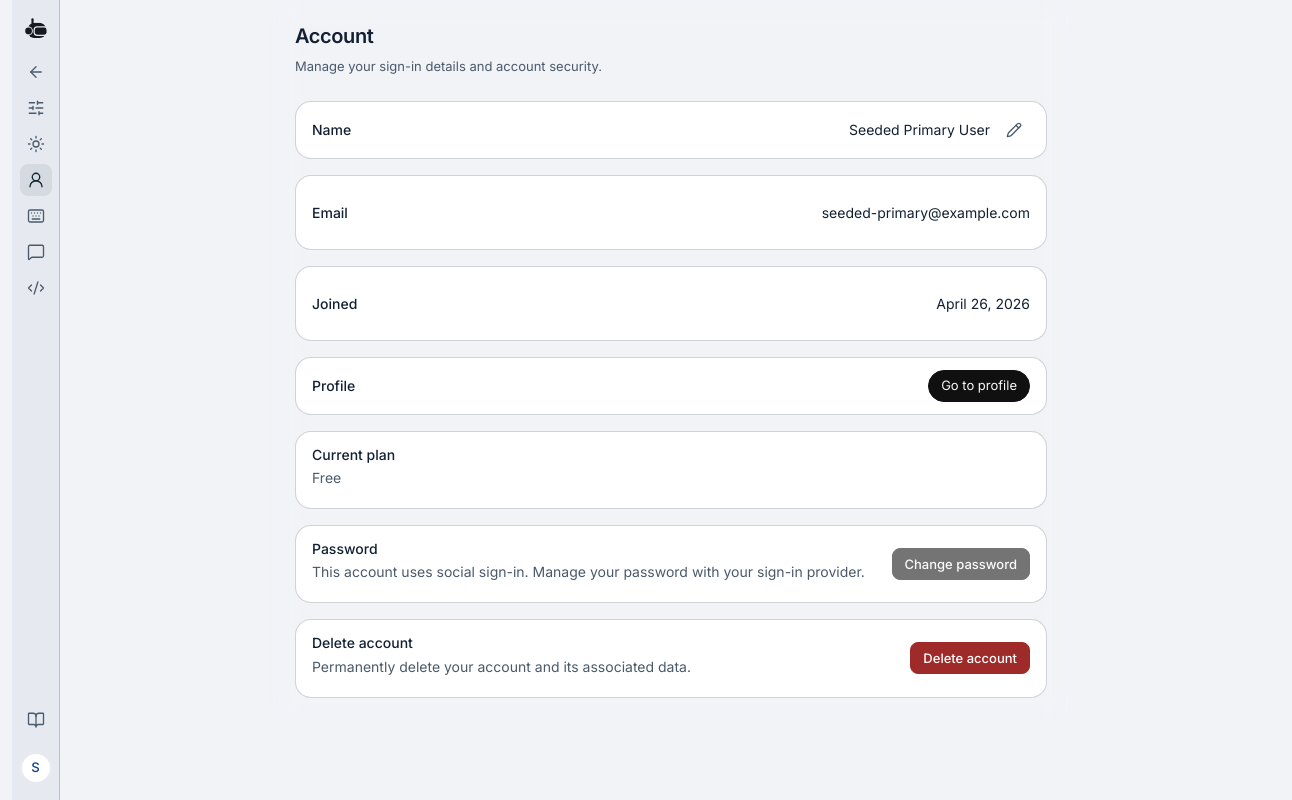
Test case: SettingsPage developers scenario › paginates API key cards after six items
The width and height of the screenshot is (1292, 800).
# user opens the developers section.
Click the link named "Developers".
click(36, 288)  # box [26, 279, 44, 297]
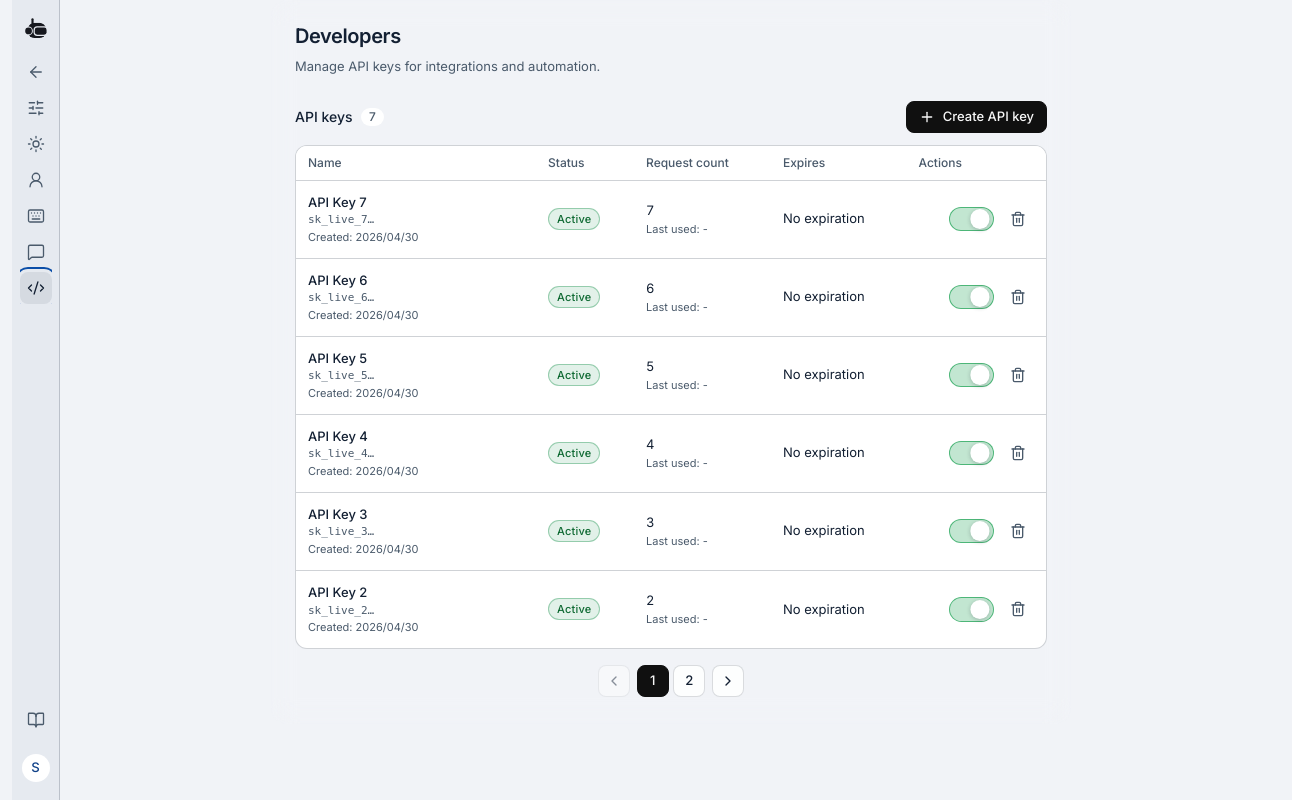
Expected: the text "API Key 1" is not shown
Expected: the text "API Key 7" is shown, [308, 194, 367, 210]
Expected: the text "API Key 6" is shown, [308, 272, 368, 288]
# user selects the next numbered page.
Click the button "2".
click(689, 681)  # box [673, 665, 705, 697]
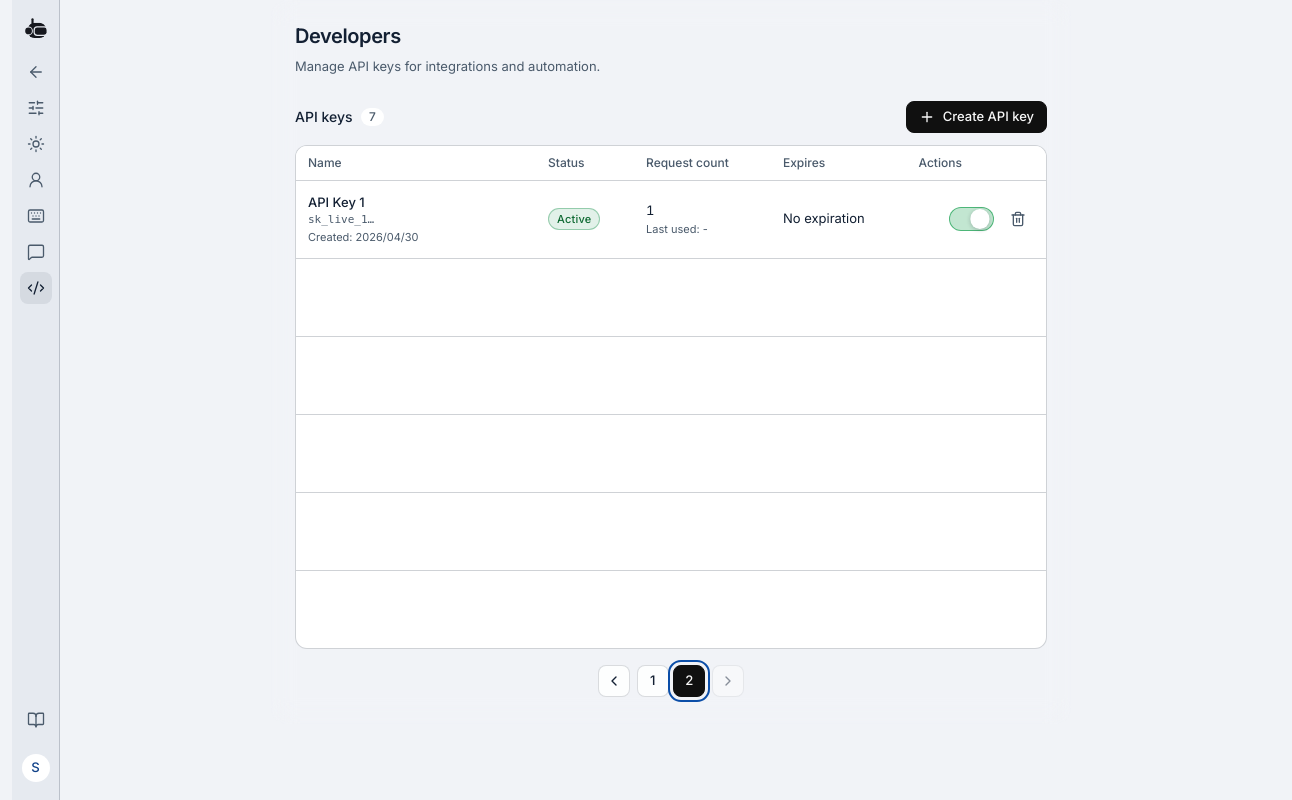
Expected: the text "API Key 1" is shown, [308, 194, 365, 210]
Expected: the text "API Key 7" is gone
